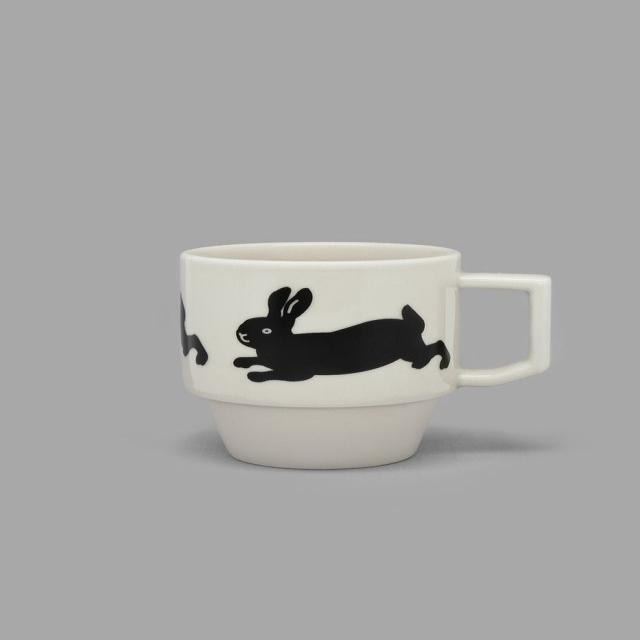glass cup: (181, 243, 553, 470)
